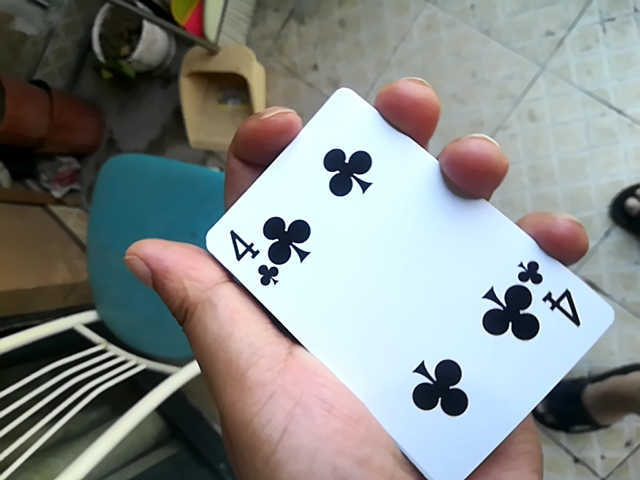mh 4: (178, 80, 620, 480)
